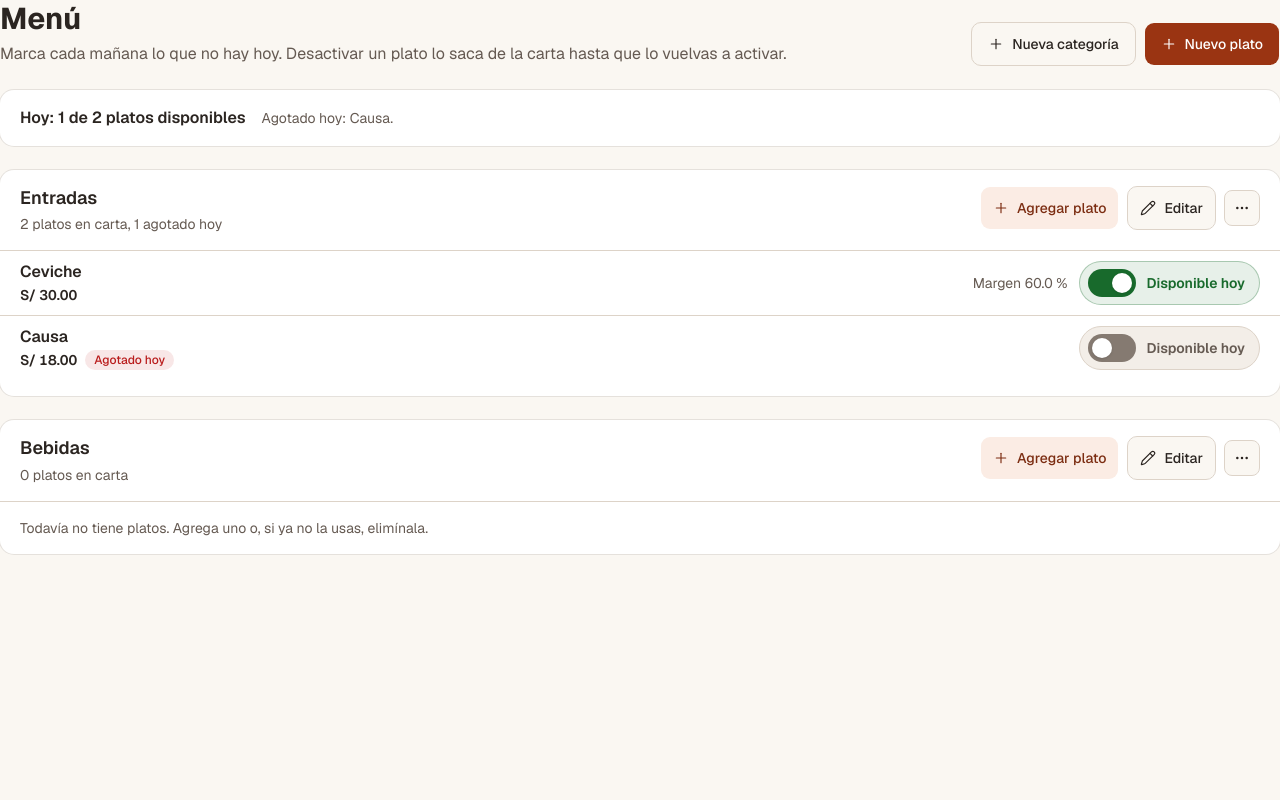
MenuView: la carta › cada plato es una línea sin costo ni margen; la ficha trae el margen y el camino a su receta
The width and height of the screenshot is (1280, 800).
Check: the text "Costo" is not shown
Click the button named "Ver la ficha de Ceviche".
click(490, 283)  # box left=16, top=251, right=965, bottom=315
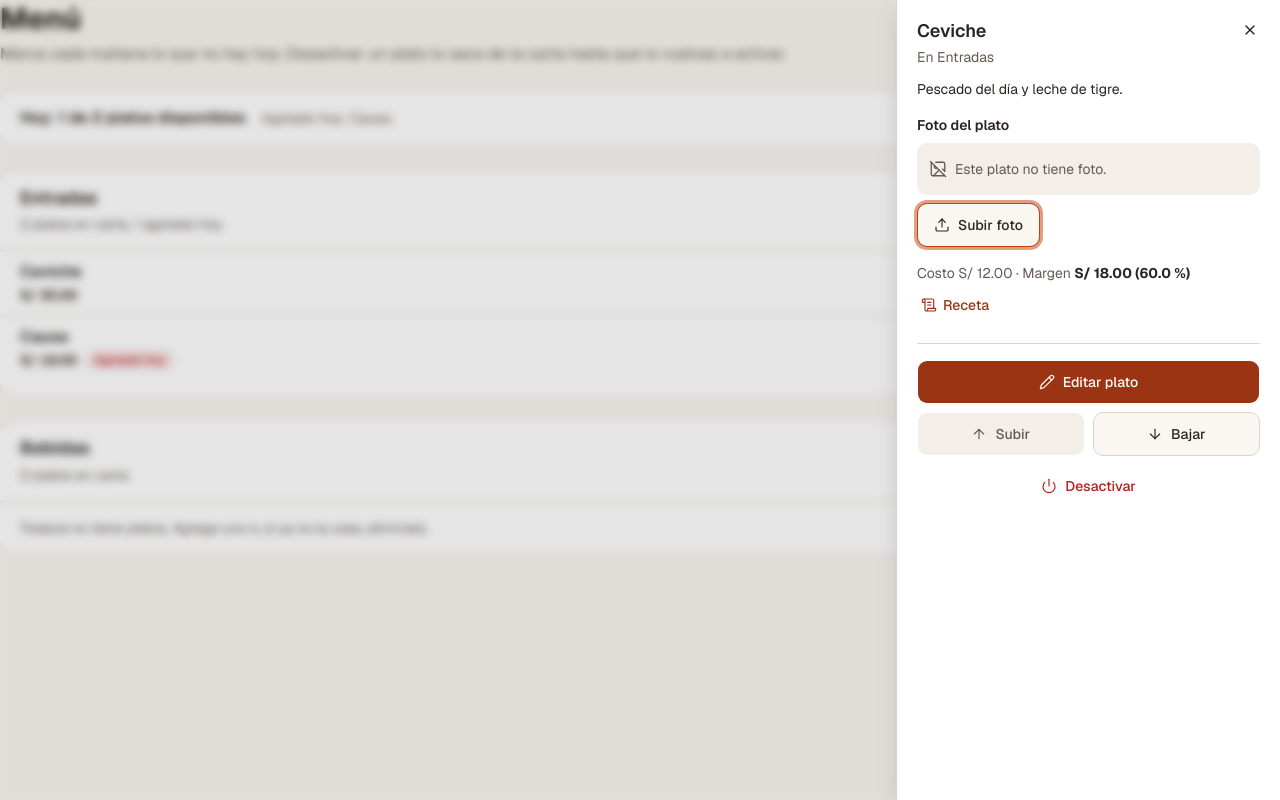
Check: the text "Costo S/ 12.00 · Margen" is shown, box left=917, top=262, right=1190, bottom=282
